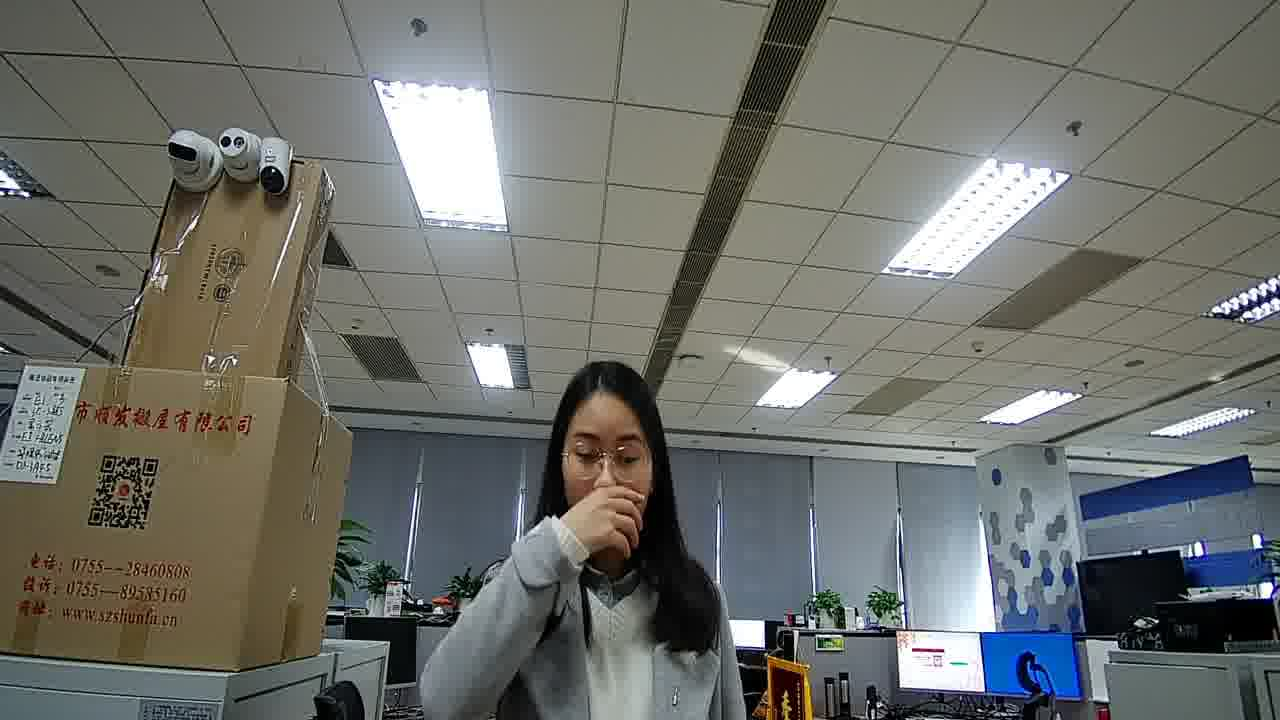face: (560, 399, 655, 547)
person: (452, 358, 731, 651)
